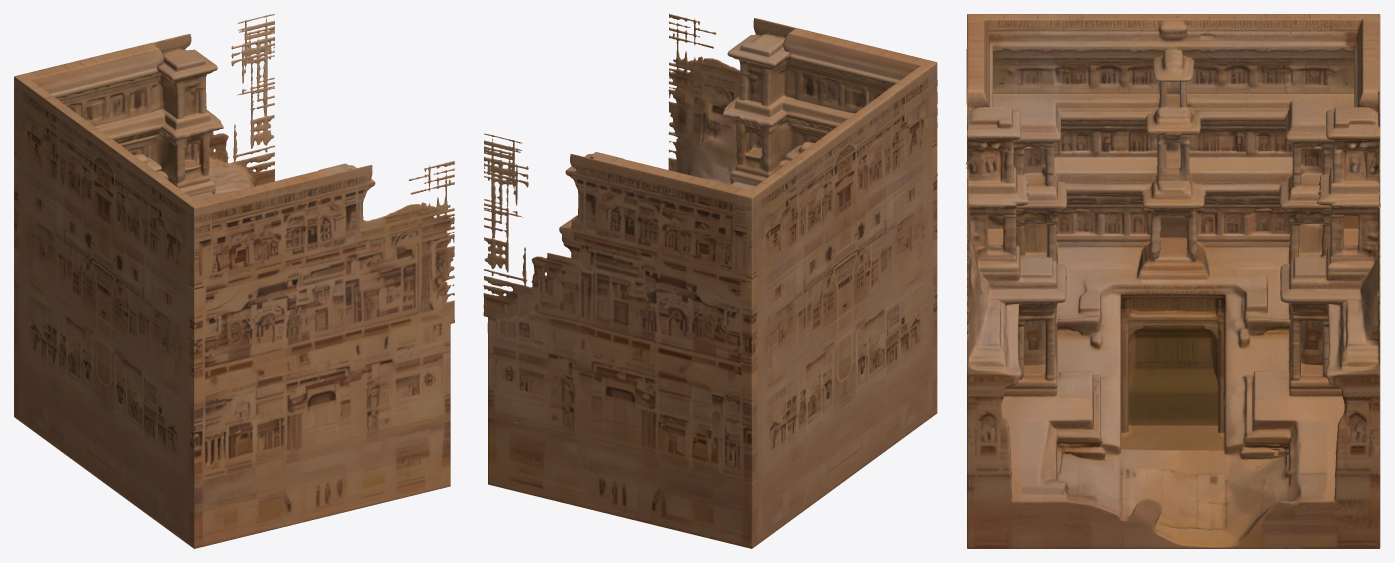
The model's file is rani_ki_vav.glb.
3 views of the same model, side by side, from view 1: azimuth 30°, elevation 25°; view 2: azimuth 150°, elevation 25°; view 3: azimuth 270°, elevation 25° (orthographic). The views are drawn at different scales.
Visible parts, largest first — view 1: tripo_node_4b800bf8-5eba-49b5-b193-ce8d338da08c; view 2: tripo_node_4b800bf8-5eba-49b5-b193-ce8d338da08c; view 3: tripo_node_4b800bf8-5eba-49b5-b193-ce8d338da08c.
Part boxes in pixels (<box>): tripo_node_4b800bf8-5eba-49b5-b193-ce8d338da08c: <box>14,14,454,548</box>; tripo_node_4b800bf8-5eba-49b5-b193-ce8d338da08c: <box>483,14,937,548</box>; tripo_node_4b800bf8-5eba-49b5-b193-ce8d338da08c: <box>966,14,1380,548</box>.
Bounding box in the file's own units: 0.8009 × 1 × 0.9584.
1 material, 1 textured.
